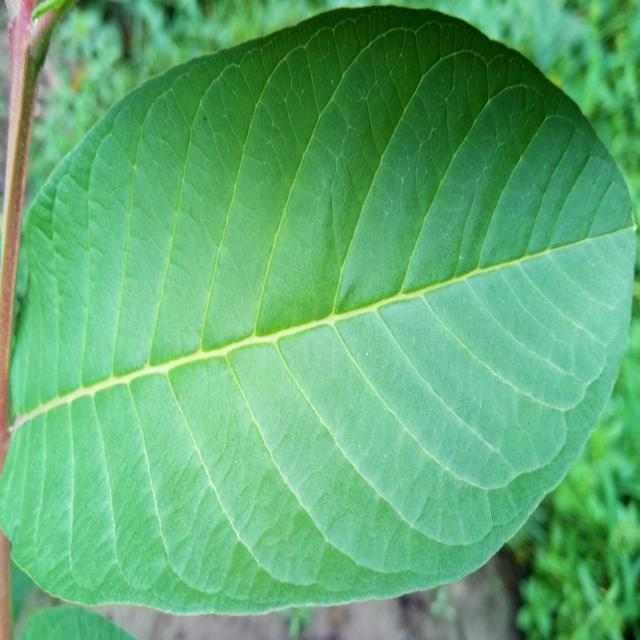Disease Free: (0, 8, 635, 614)
